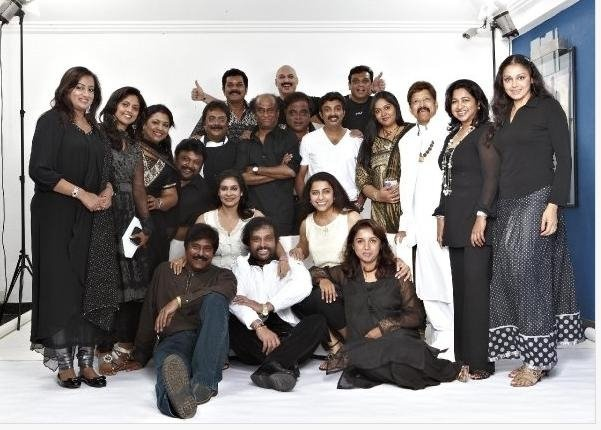bad: (349, 230, 385, 266), (497, 66, 533, 102), (441, 86, 477, 122)
